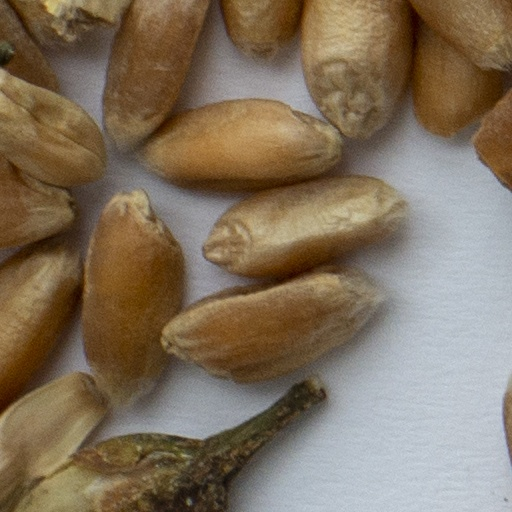Peel-poly: (25, 379, 325, 511), (0, 372, 117, 511), (474, 94, 511, 188), (48, 0, 129, 34)
